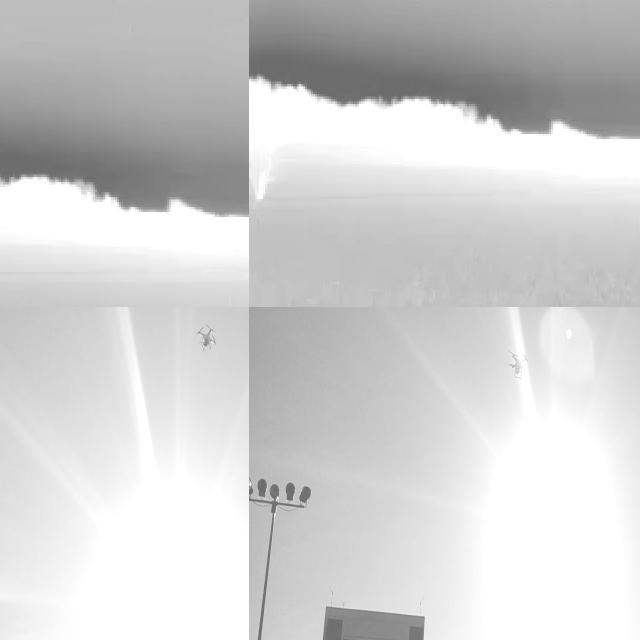drone: (506, 344, 532, 381), (196, 324, 219, 356)
